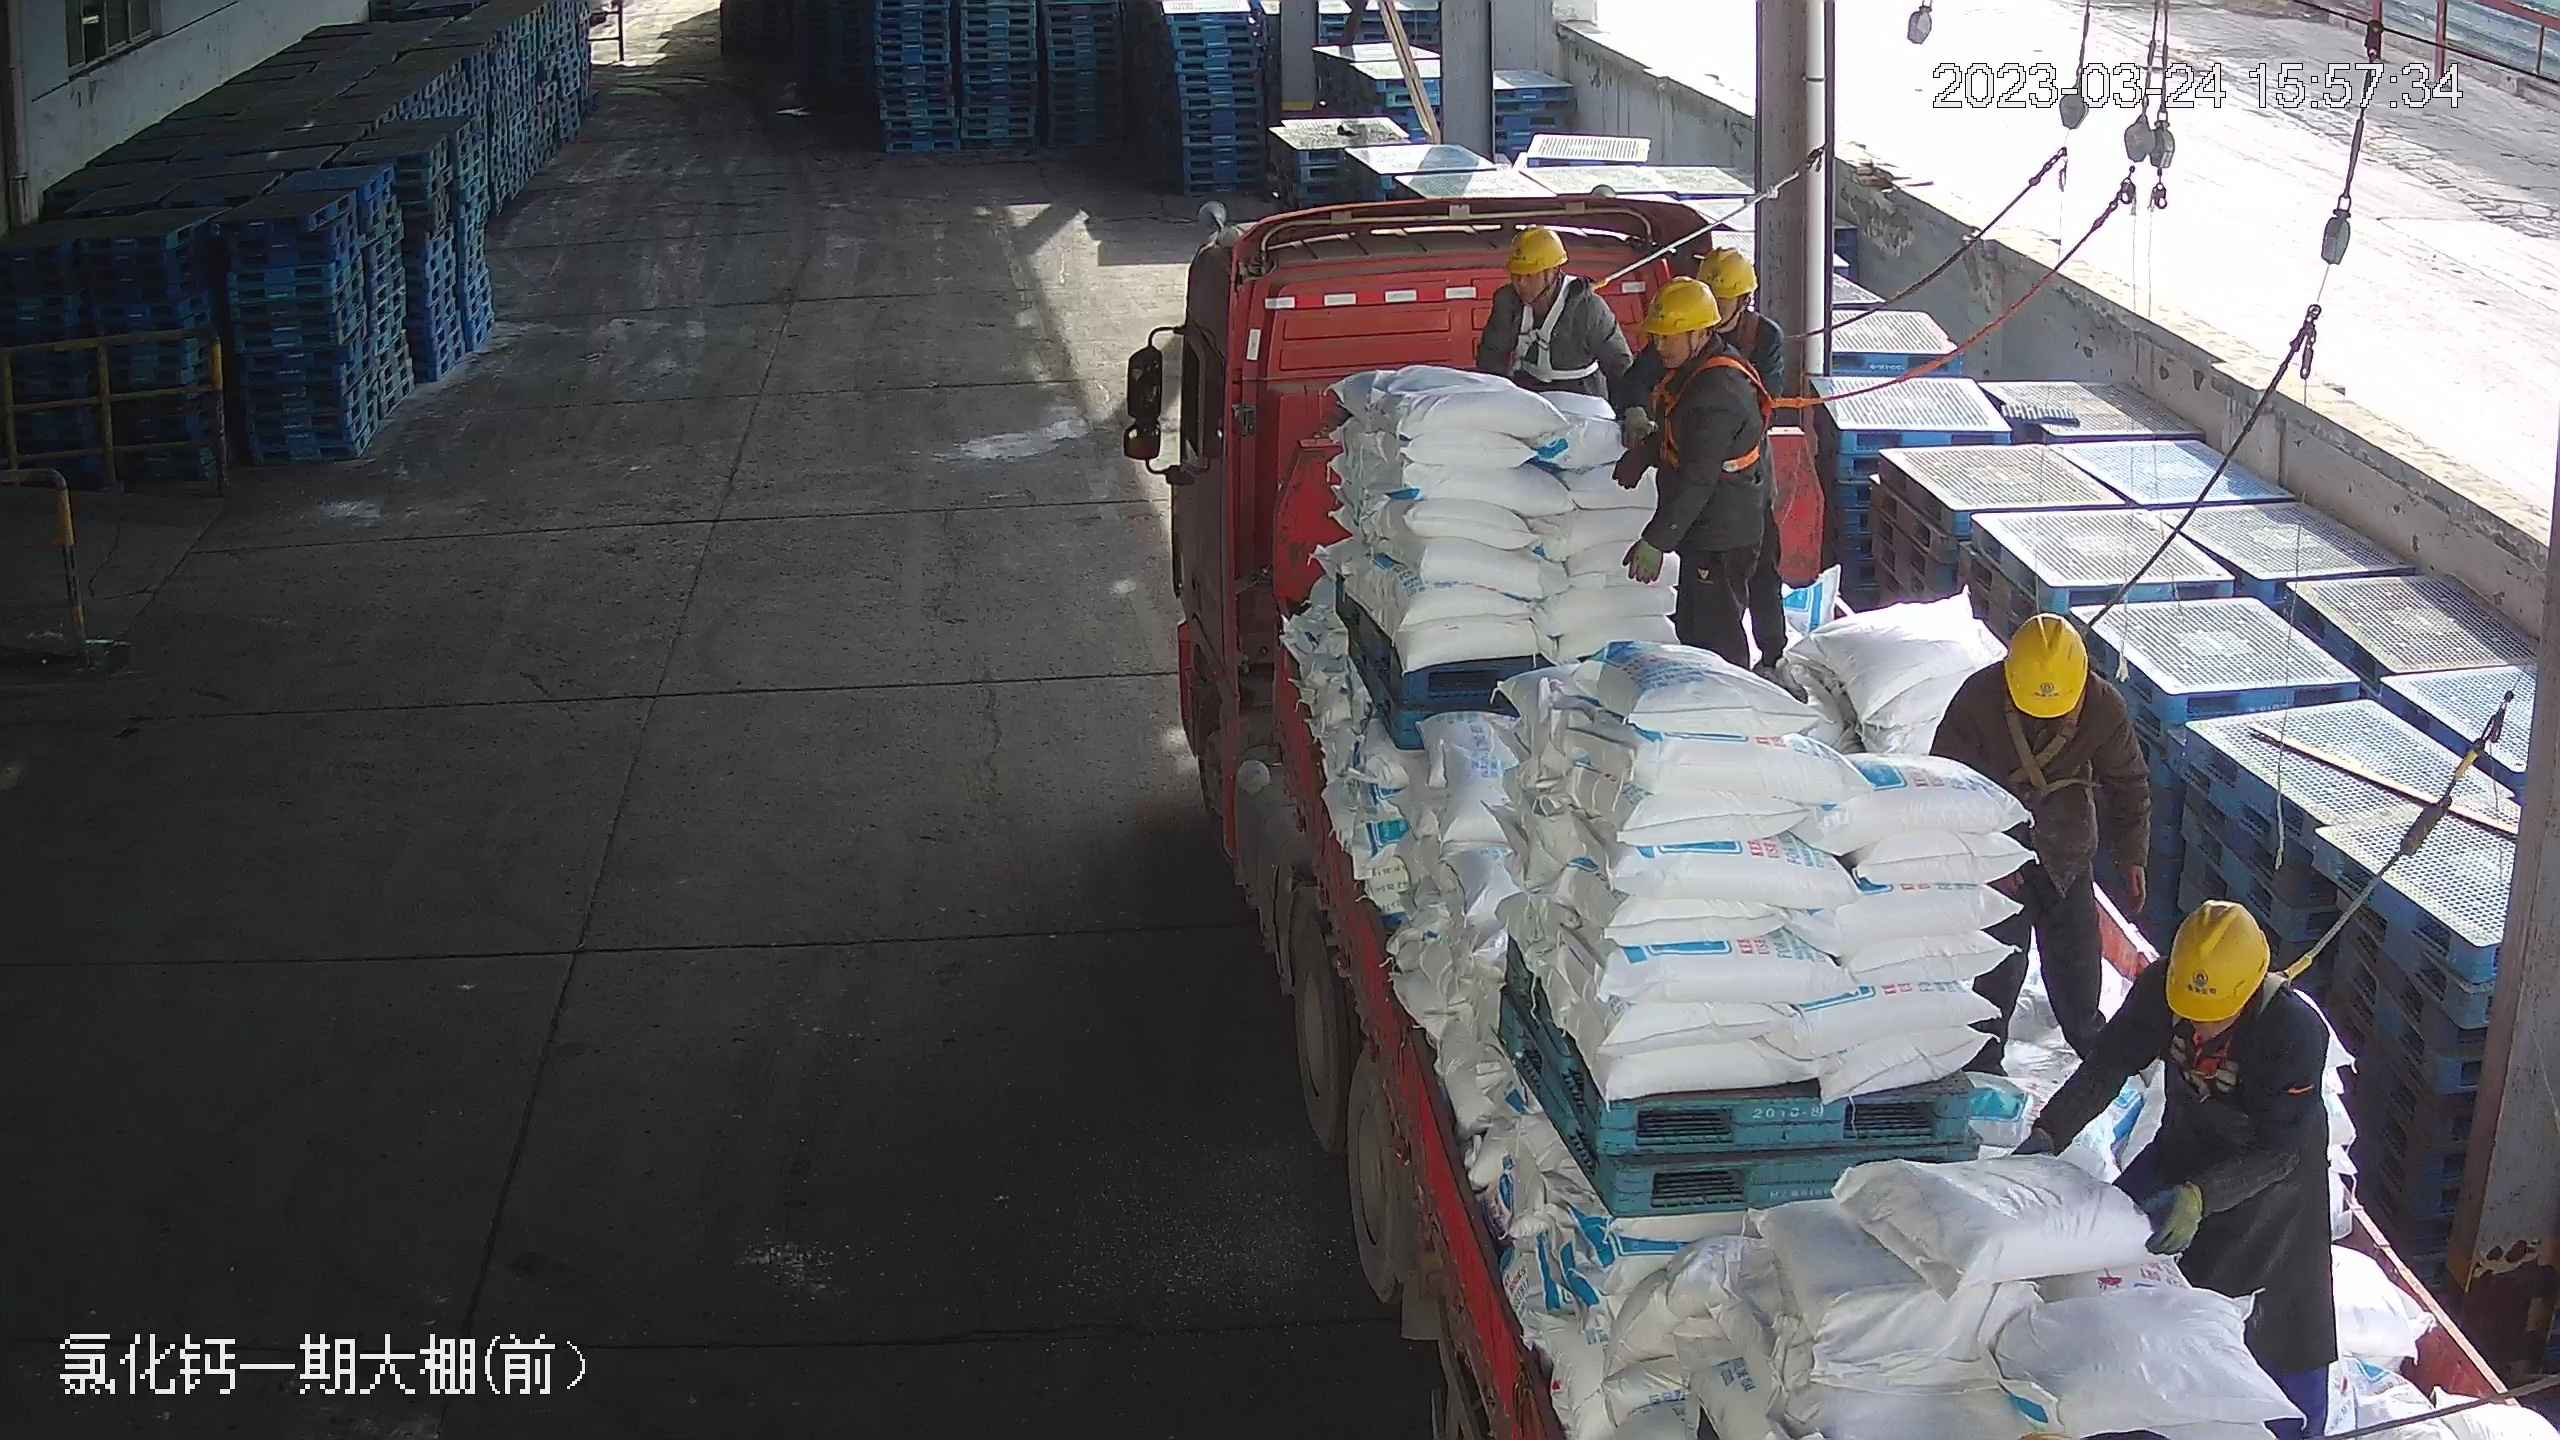belt: (2161, 964, 2335, 1093), (1652, 349, 1783, 475), (1992, 675, 2102, 789), (1503, 288, 1593, 387), (1732, 302, 1768, 364)
head: (2116, 894, 2319, 1082), (1944, 607, 2137, 753), (1638, 276, 1760, 415), (1488, 223, 1612, 335)
helmet: (2165, 896, 2268, 1018), (1999, 608, 2089, 718), (1640, 275, 1719, 337), (1501, 222, 1569, 275), (1699, 244, 1757, 295)
people: (2017, 892, 2341, 1413), (1933, 604, 2146, 1077), (1616, 272, 1791, 677)
truck: (1138, 187, 2507, 1440)
